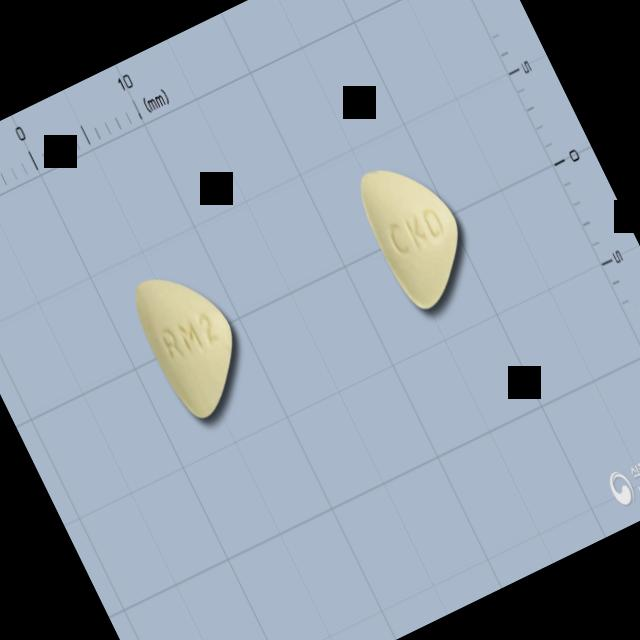Leflunomide Myungmoon -20mg: (348, 145, 487, 316), (124, 256, 262, 427)
